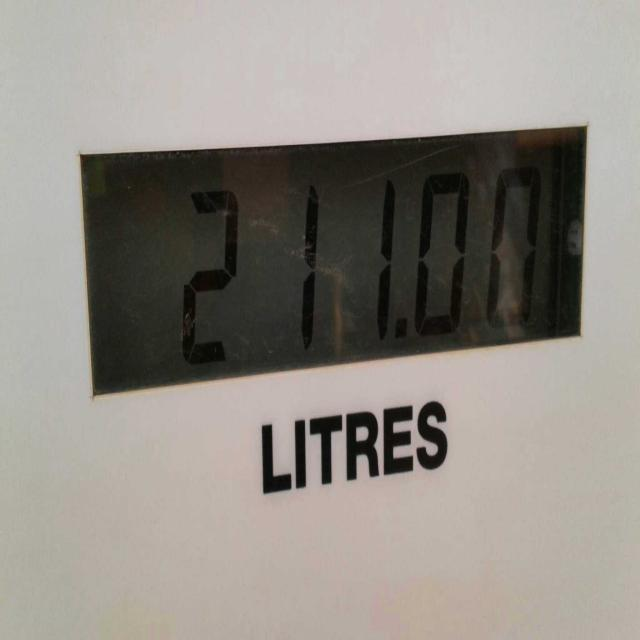.: (390, 296, 412, 353)
0: (408, 170, 474, 338), (490, 159, 543, 335)
1: (274, 185, 335, 357), (356, 171, 396, 350)
2: (170, 170, 242, 396)
